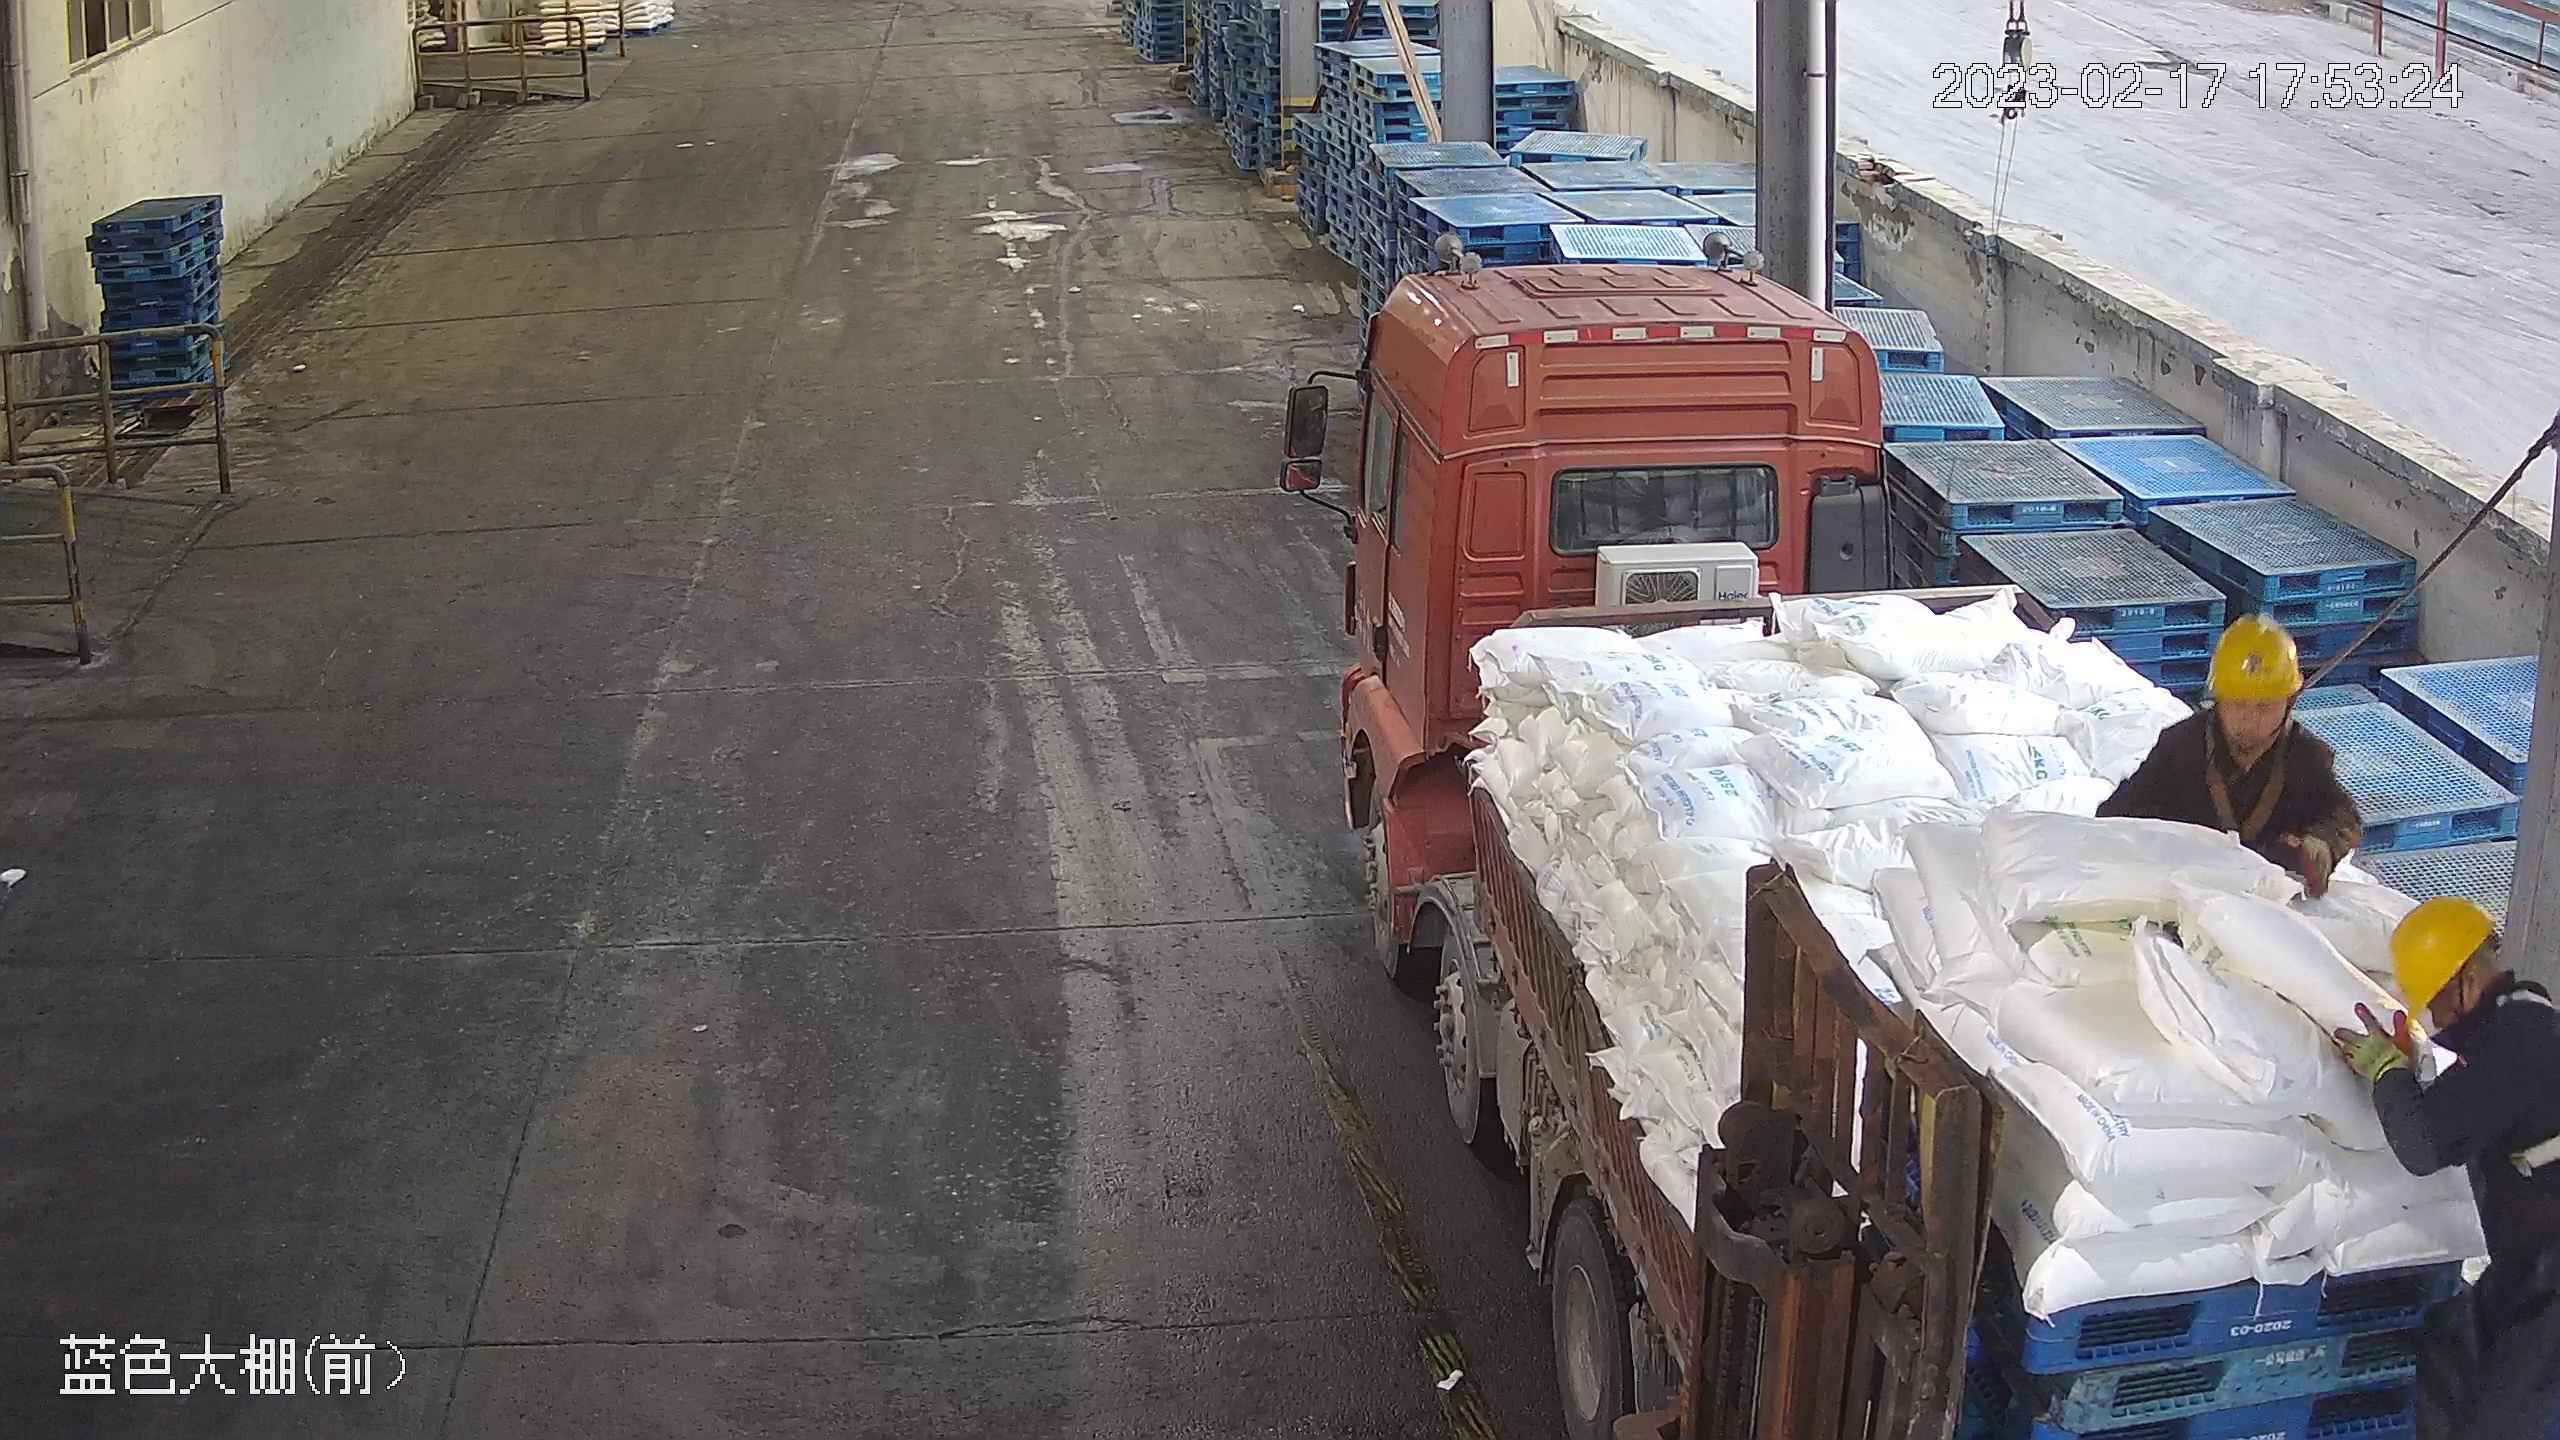belt: (2191, 709, 2314, 845), (2493, 975, 2560, 1176)
head: (2355, 891, 2560, 1128), (2143, 611, 2340, 804)
helmet: (2383, 889, 2499, 1029), (2204, 612, 2307, 702)
people: (2334, 890, 2559, 1439)
truck: (1275, 225, 2559, 1440)
